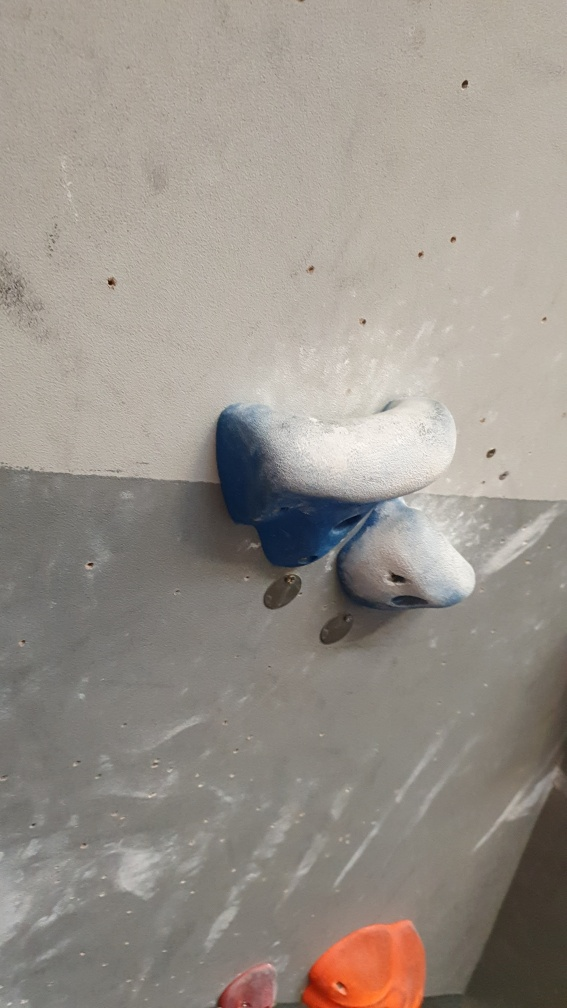Hand Start: (256, 566, 313, 614), (317, 603, 360, 650)
Jug: (217, 395, 463, 572), (331, 477, 479, 614)
